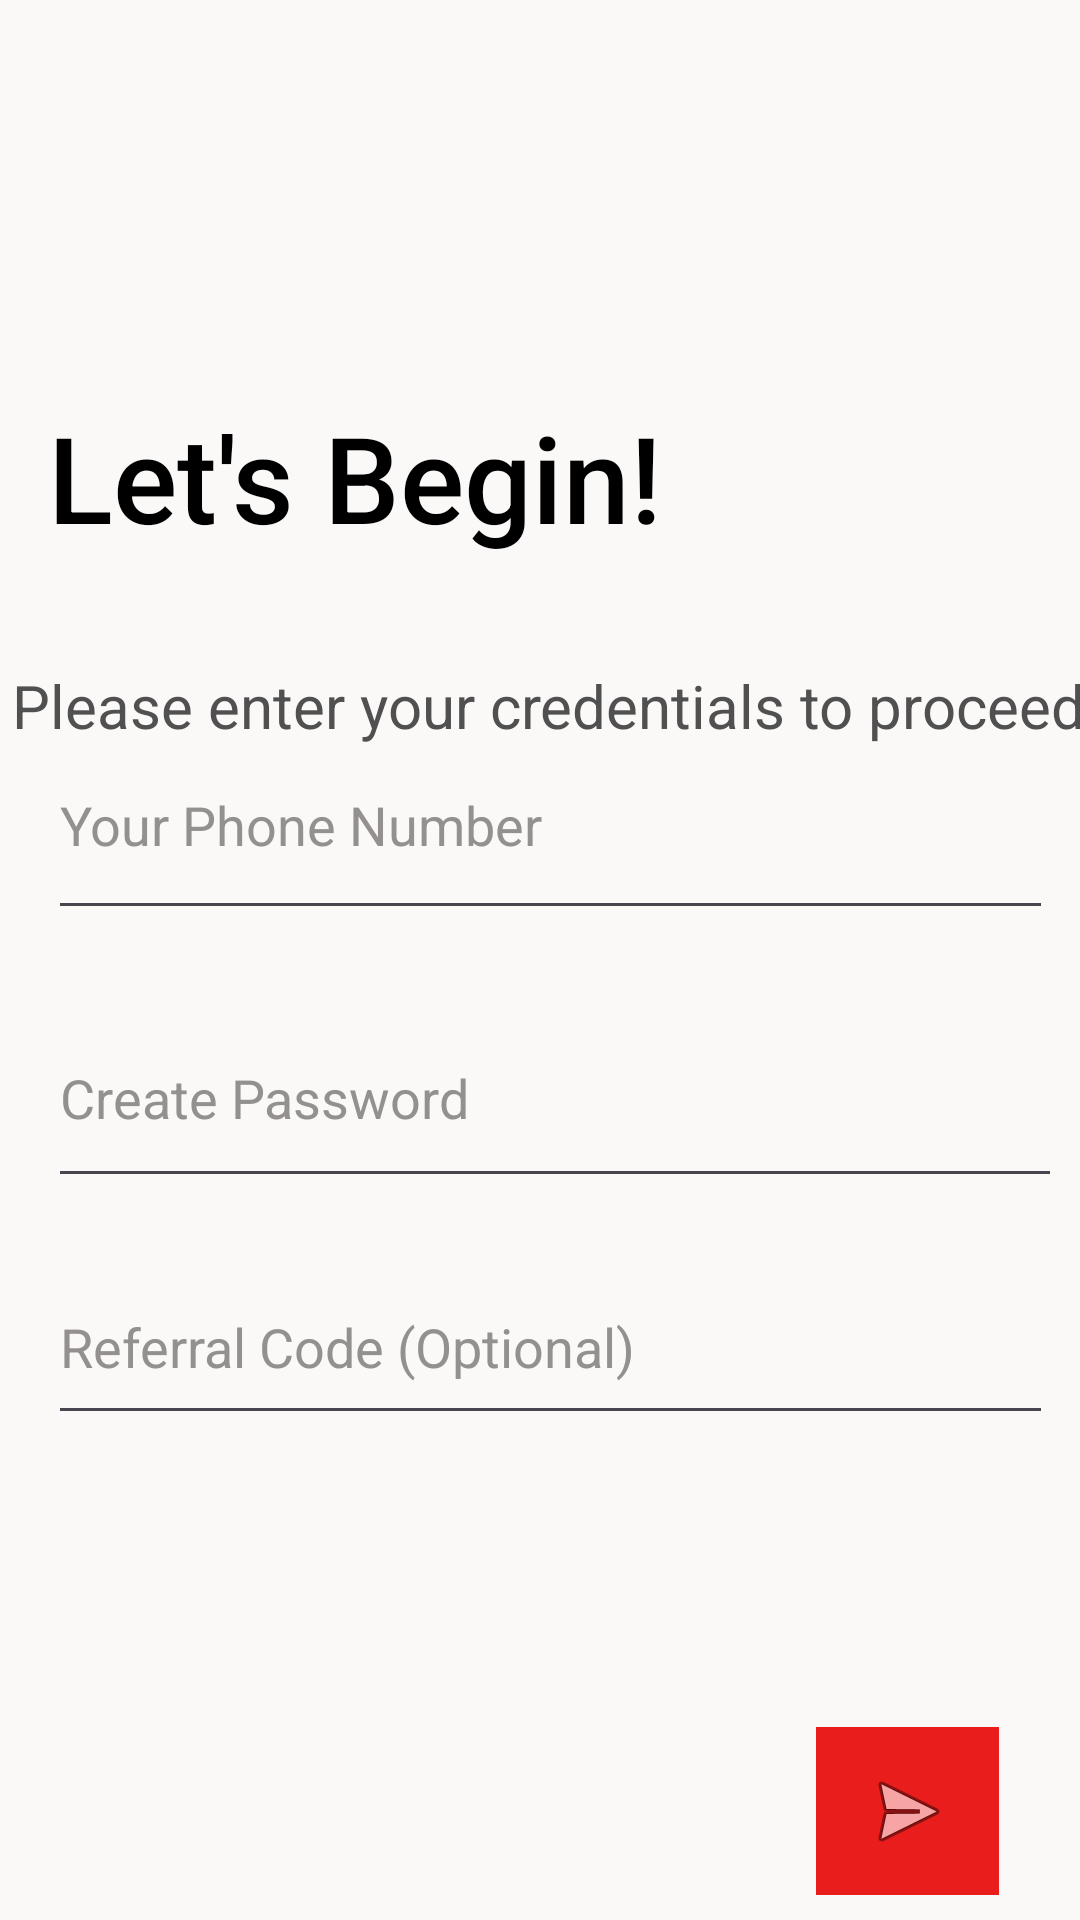

Where to tap for icons on this 1080px x 1920px app screen, as [x,y]:
send: [907,1811]
